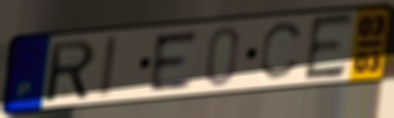0: (203, 25, 242, 89)
C: (257, 19, 307, 83)
E: (302, 10, 357, 84), (148, 28, 200, 94)
I: (96, 33, 121, 101)
R: (45, 37, 98, 105)
